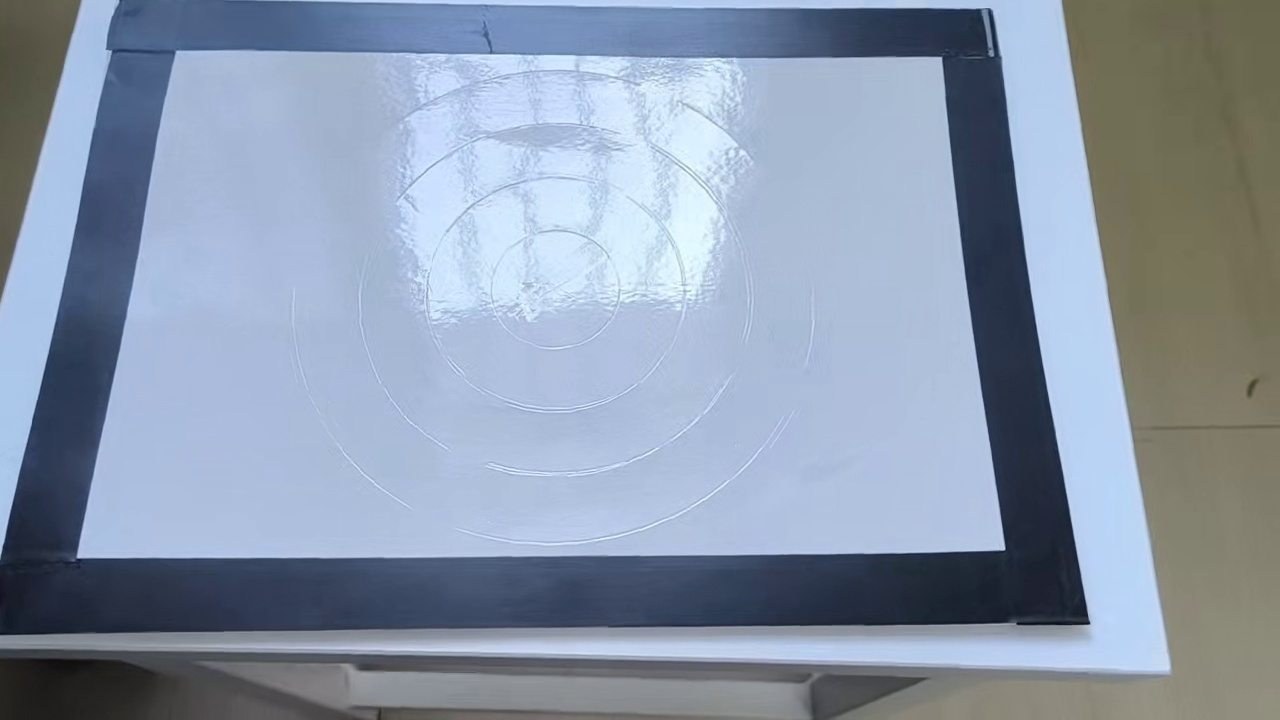board: (16, 7, 1087, 633)
